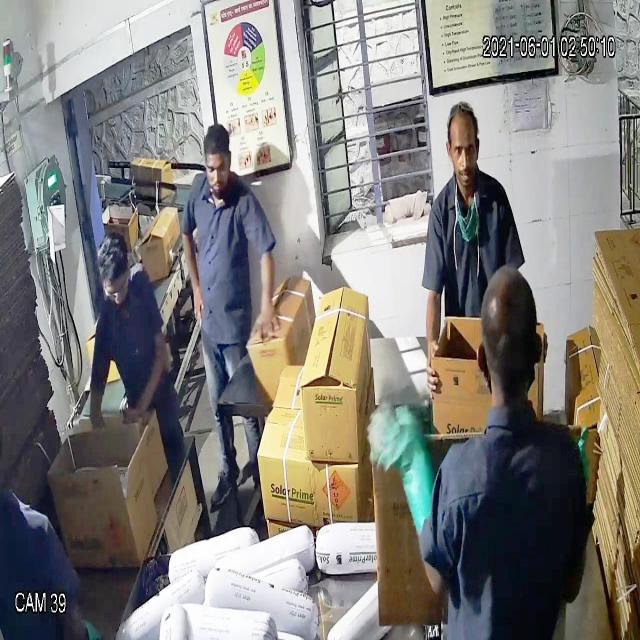glasses: (97, 274, 133, 310)
no-glass: (443, 135, 486, 168), (196, 154, 236, 186)
